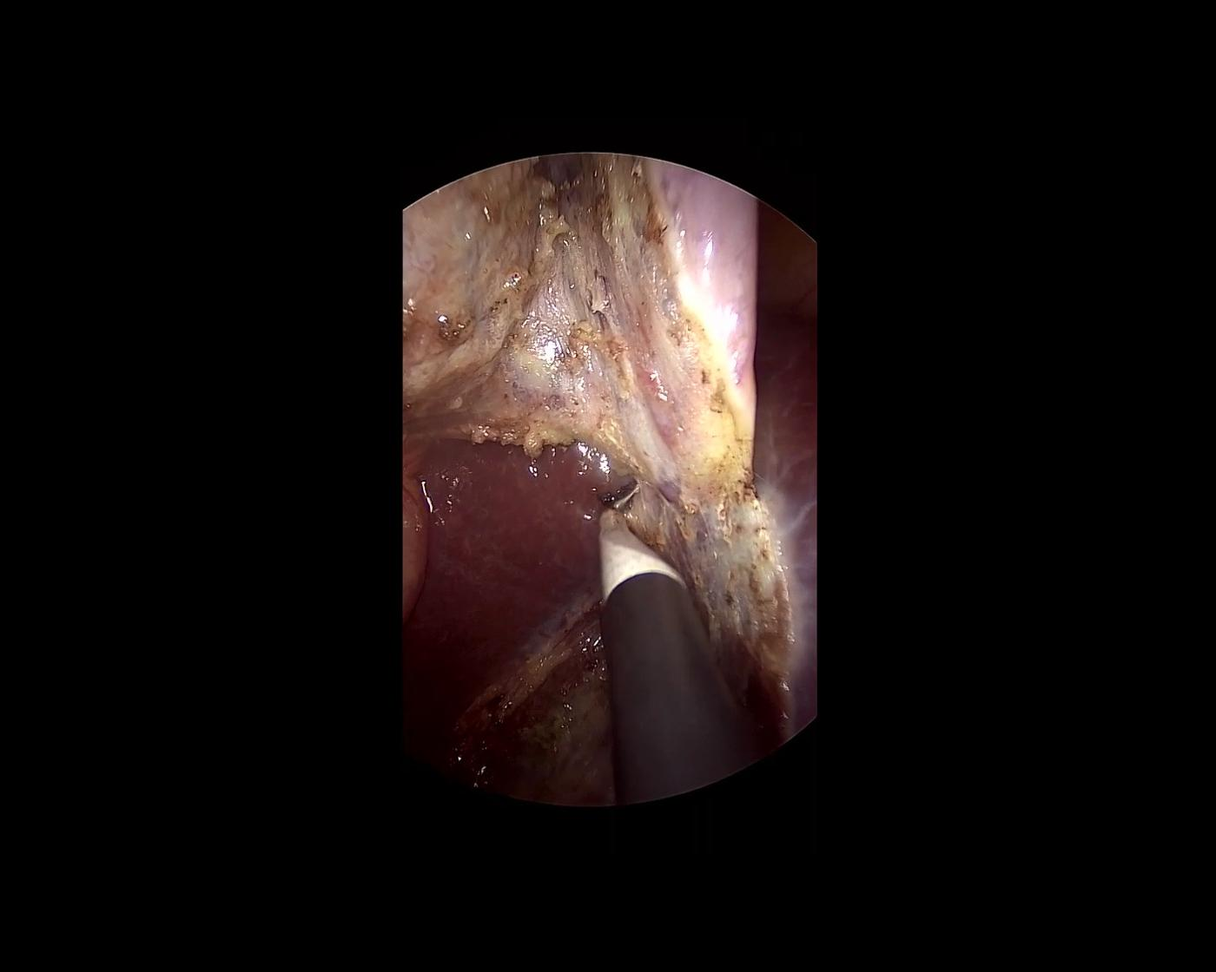Cautery: (510, 483, 756, 816)
Gallbladder: (398, 151, 758, 496)
Liver: (382, 422, 638, 804), (753, 324, 815, 735)
